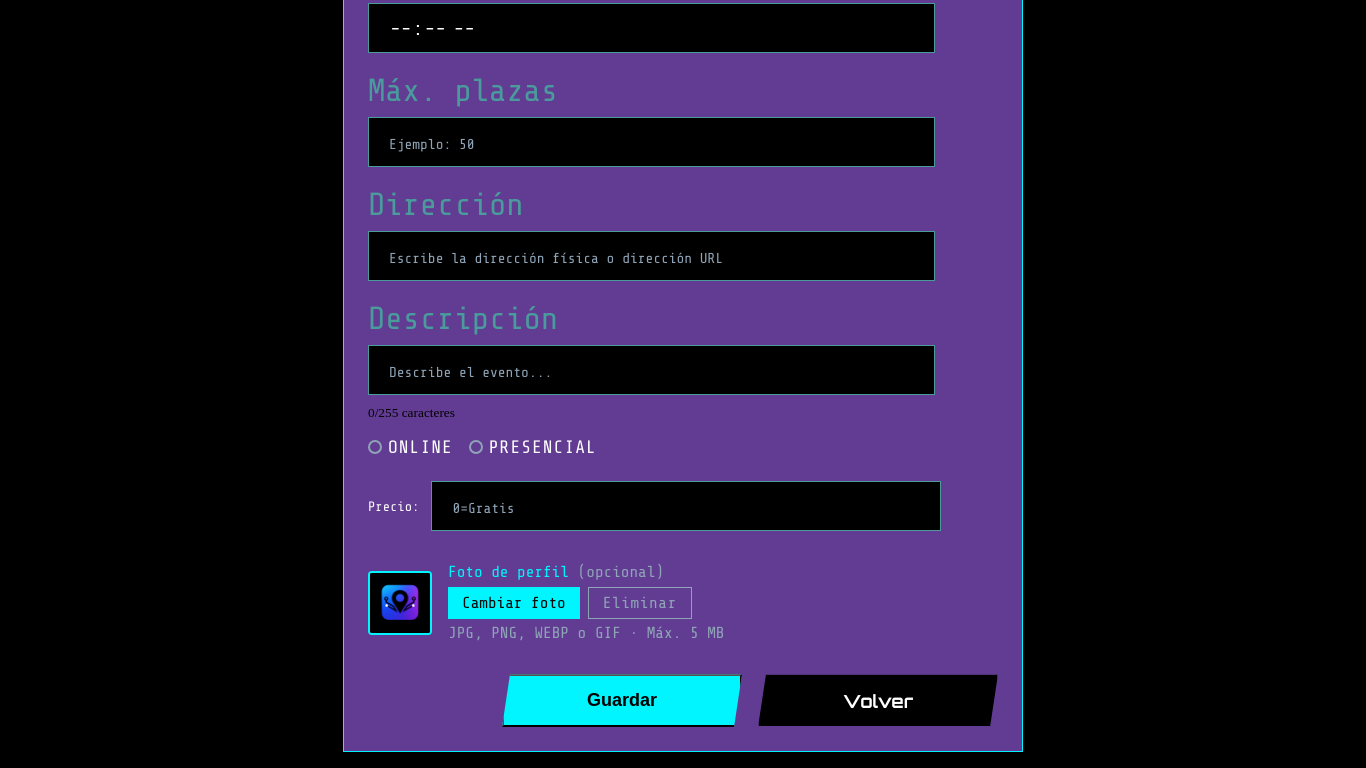
Scenario: EventFormModal Component › cambia los campos de localización según la modalidad (ONLINE vs PRESENCIAL)
(page scrolled)
Step 1. Click the radio button labelled "ONLINE" → (410, 447), box [368,437,453,457]
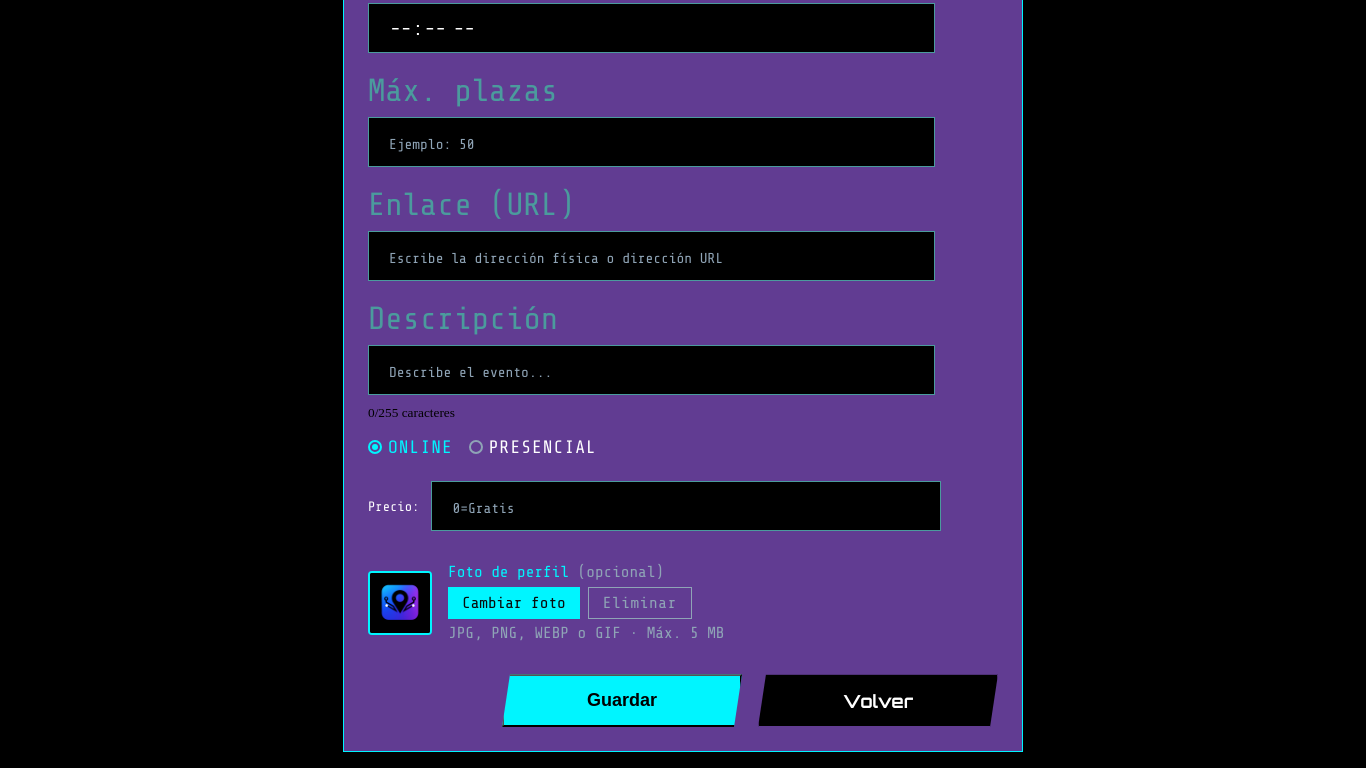
Expected: the text "Enlace (URL)" is shown, [368,187,575,223]
Step 2. Click the radio button labelled "PRESENCIAL" → (533, 447), box [469,437,597,457]
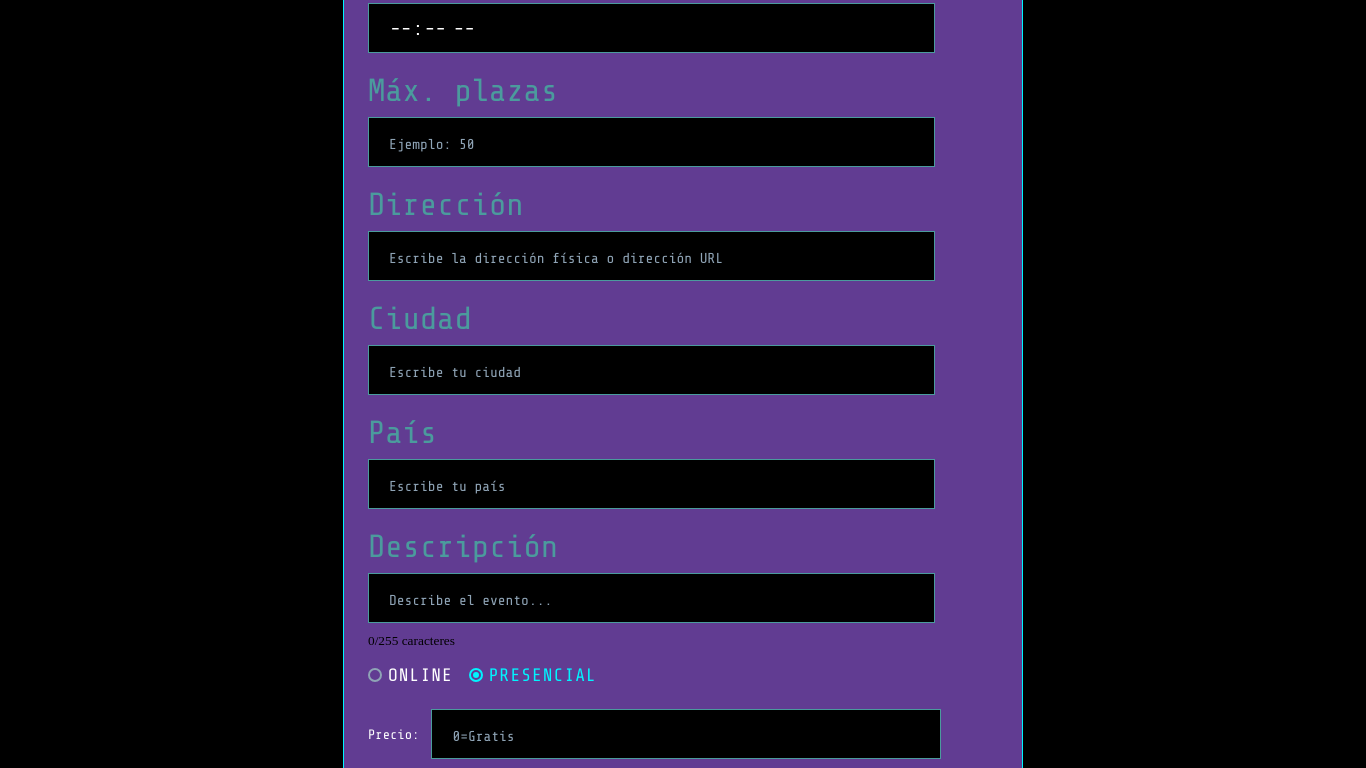
Expected: the text "Ciudad" is shown, [368,301,472,337]
Expected: the text "País" is shown, [368,415,437,451]
